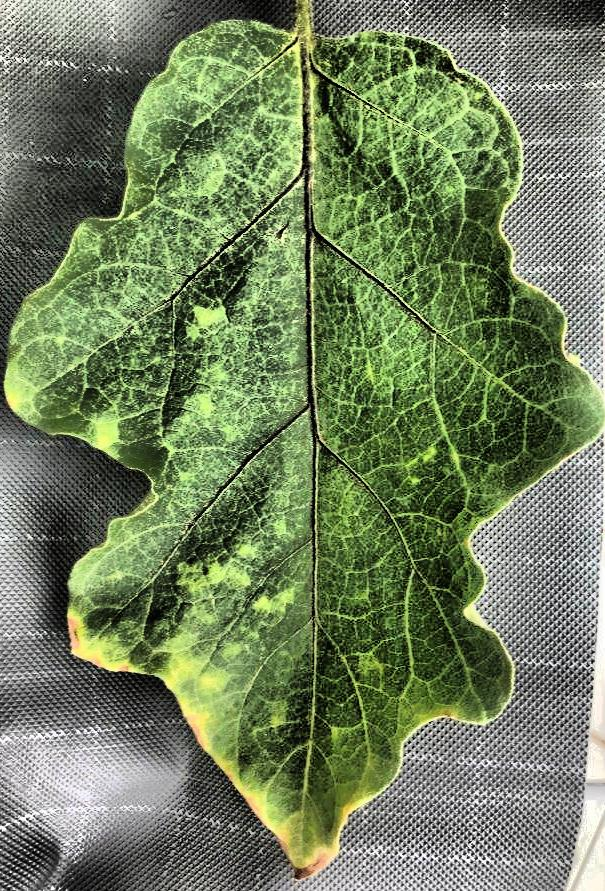Non-critical Stress: (1, 0, 605, 891)
